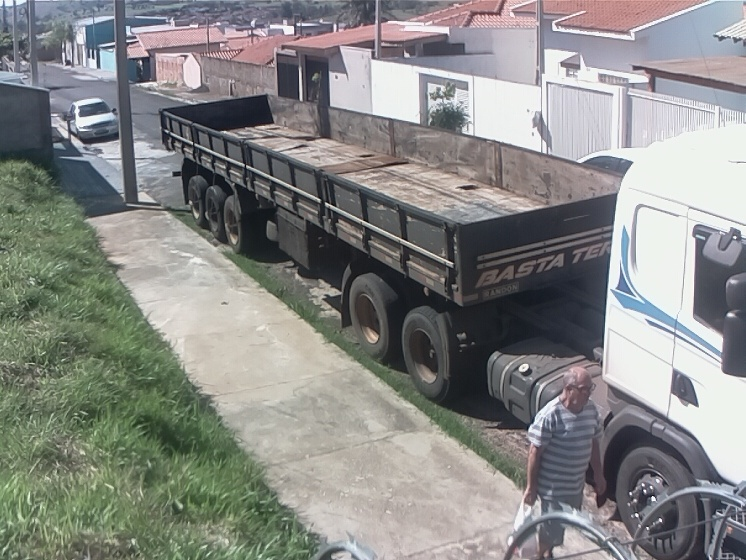person: (524, 365, 607, 560)
